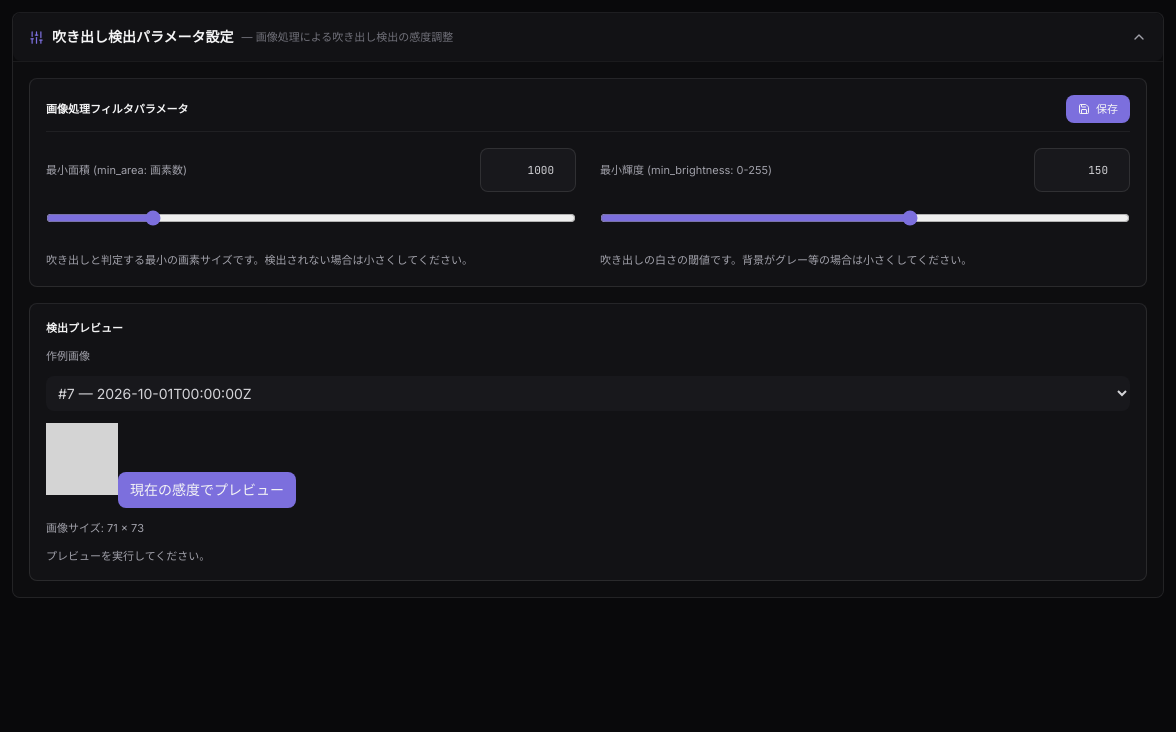
Test case: BubbleDetectionSection REQ-334 preview › shows the exact save success only after persistence resolves
This screenshot has width=1176, height=732.
Step 1. Replace the text in the number field named "最小面積 (min_area: 画素数)" with "1350" → coordinates (528, 170), box [480,148,576,192]
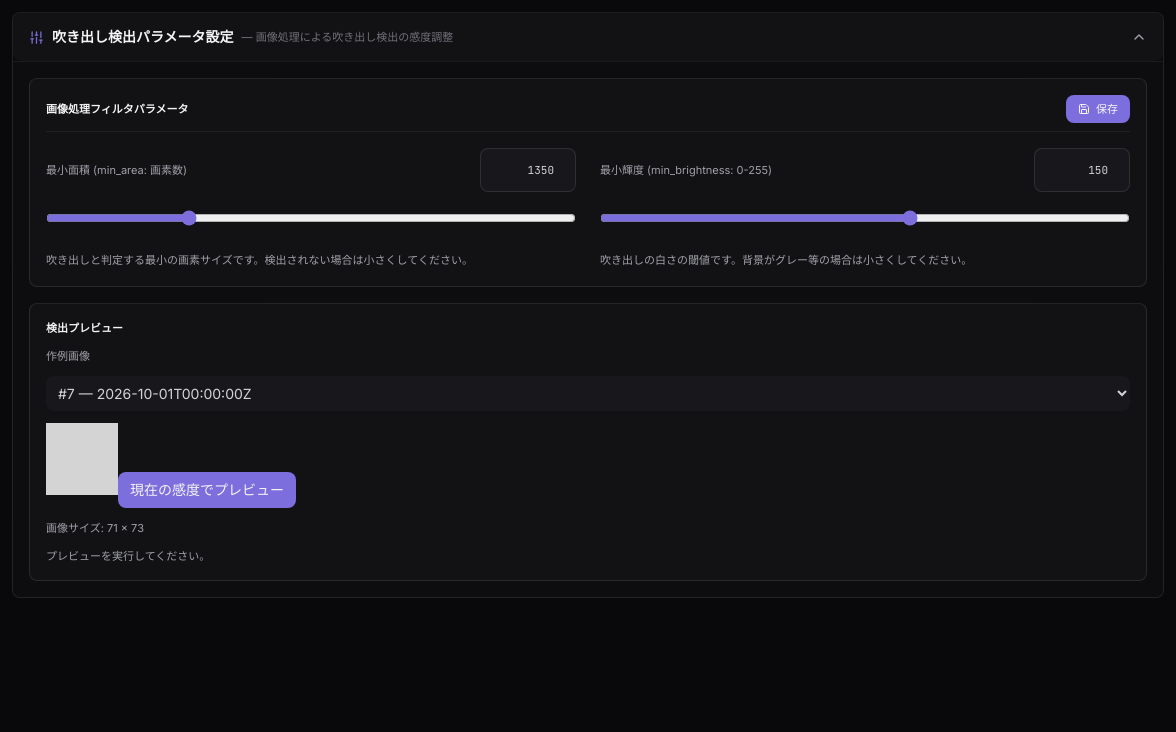
Expected: the text "設定を保存しました" is not shown
Step 2. Click the button "保存" → coordinates (1098, 109), box [1066,95,1130,123]
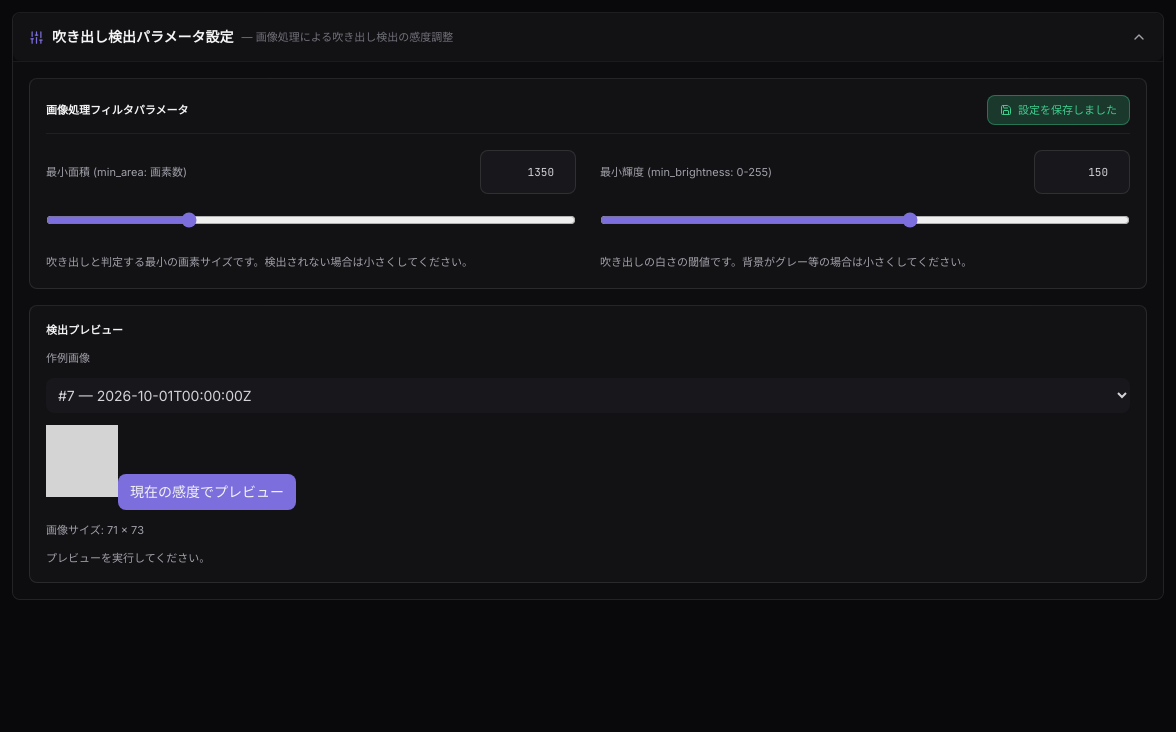
Expected: the button "設定を保存しました" is shown, [987,95,1130,125]
